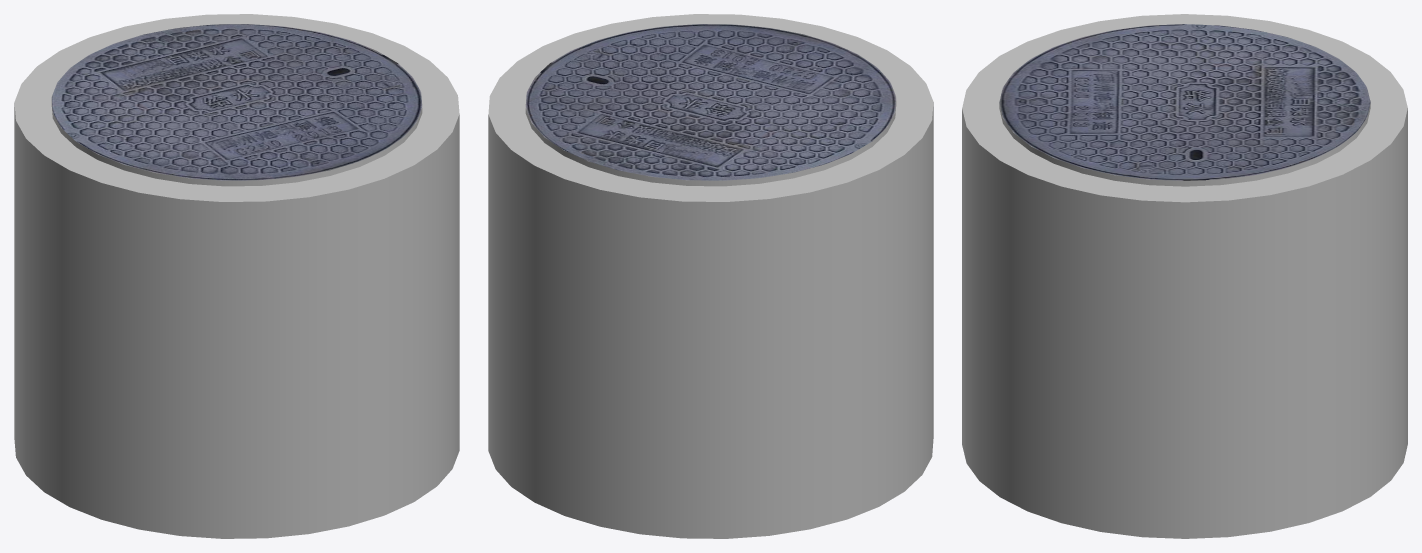
The picture shows the model from 3 angles, left to right: view 1: azimuth 30°, elevation 25°; view 2: azimuth 150°, elevation 25°; view 3: azimuth 270°, elevation 25°; orthographic projection.
Parts seen in each view (by area): view 1: 535070_1; view 2: 535070_1; view 3: 535070_1.
Boxes of the visible parts, box(x1,y1,x2,y2) form: 535070_1: box(14, 14, 459, 538); 535070_1: box(488, 14, 933, 538); 535070_1: box(962, 14, 1407, 538).
Size of the model in its own units: 1.2 by 1.02 by 1.2.
Materials: 3 (1 with a texture image).
